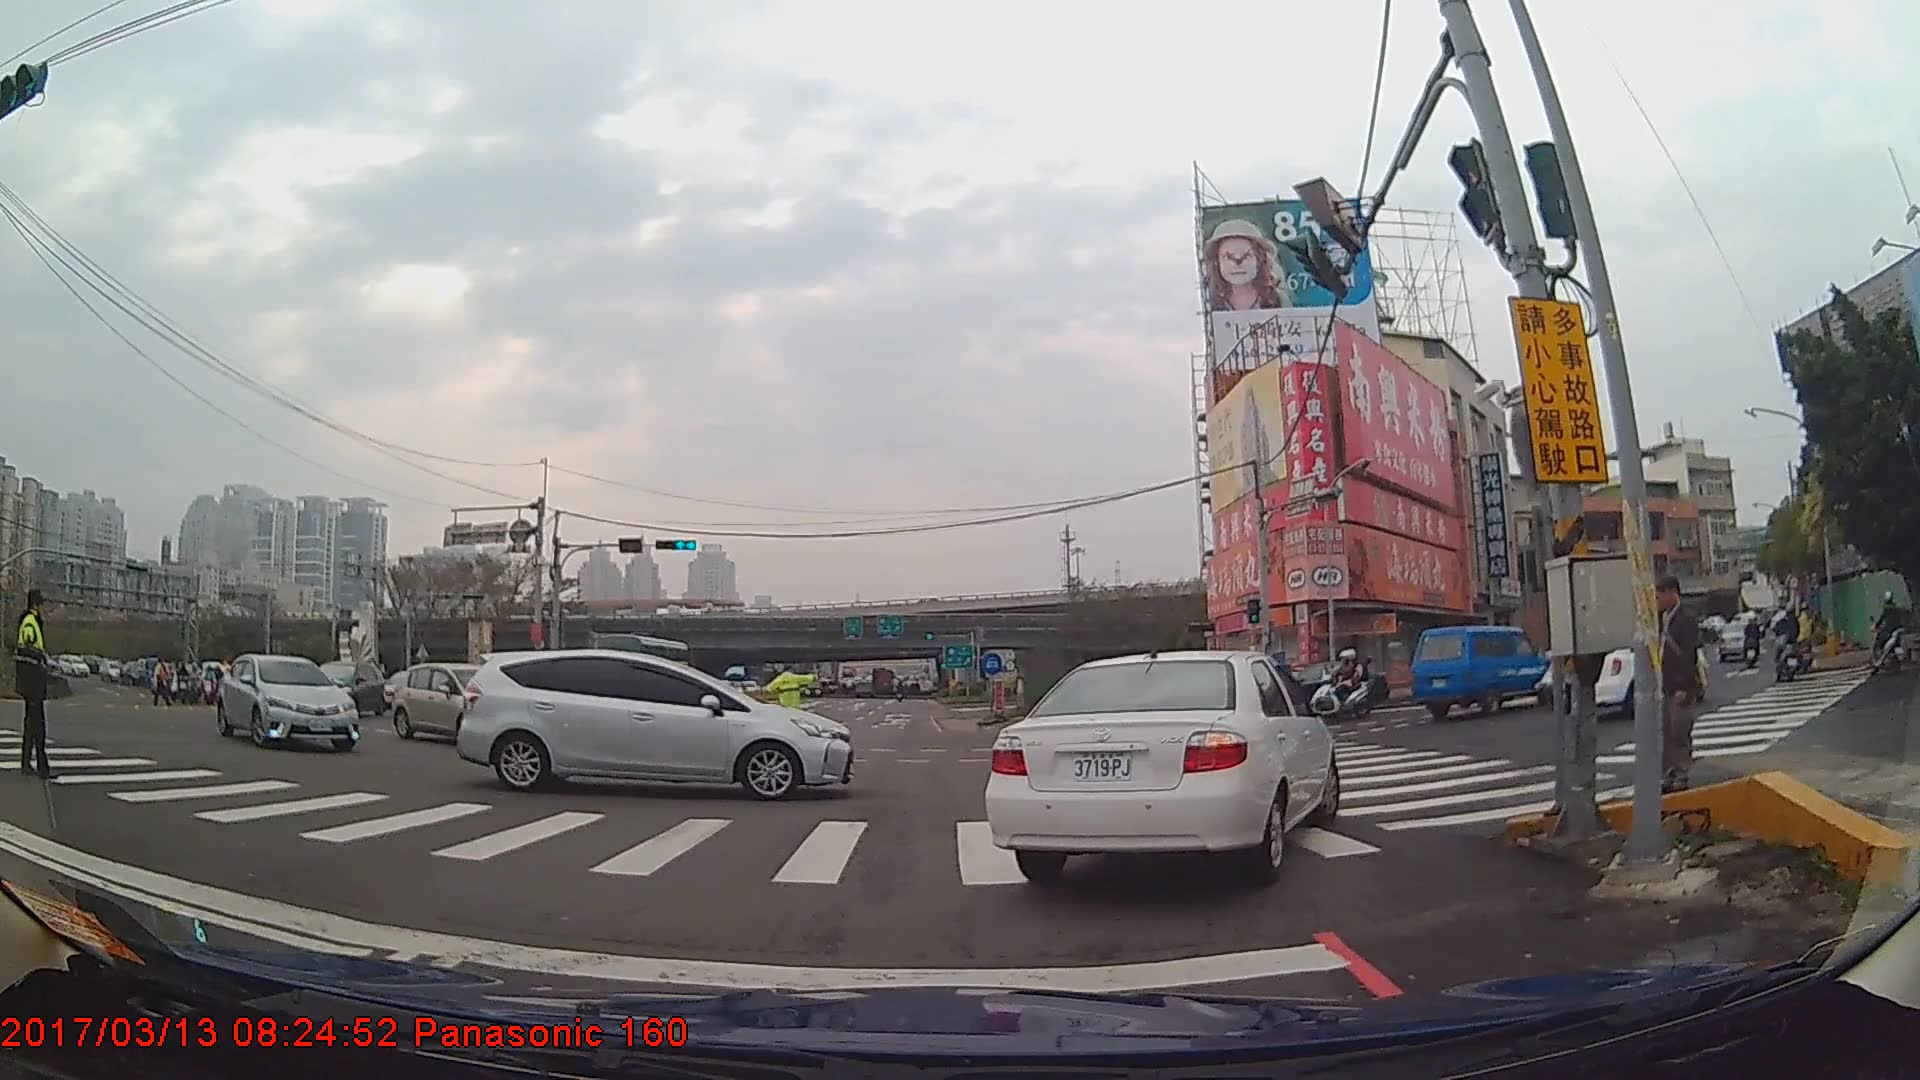pedestrian: (1638, 573, 1710, 805), (19, 583, 59, 783), (765, 657, 824, 742)
rider: (1310, 648, 1374, 723), (1864, 586, 1905, 679), (1774, 603, 1804, 682), (1794, 605, 1816, 679), (1742, 611, 1763, 673)
vehicle: (981, 648, 1340, 886), (456, 647, 851, 802), (213, 651, 359, 751), (1409, 625, 1557, 718), (388, 662, 525, 741), (310, 656, 387, 717), (1714, 620, 1758, 666)
